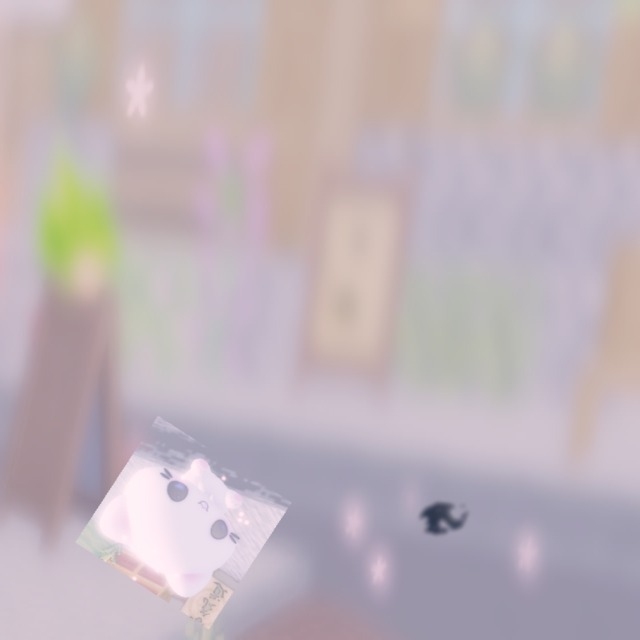urso_branco: (75, 415, 292, 630)
urso_preto: (413, 497, 474, 539)
